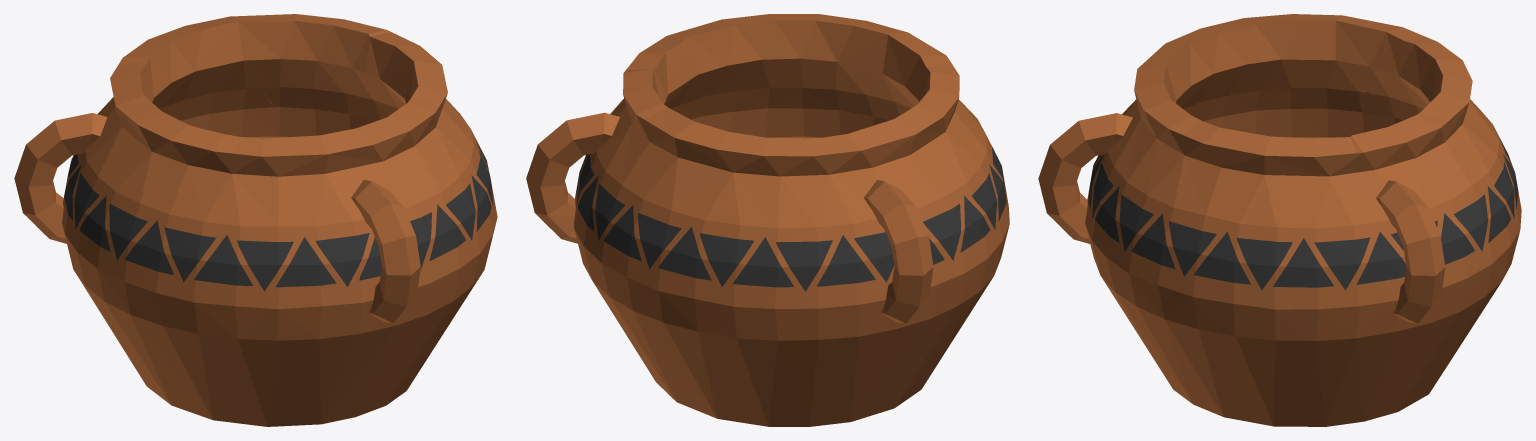
The model's file is Pottery 19_2b.fbx.
3 views of the same model, side by side, from view 1: azimuth 30°, elevation 25°; view 2: azimuth 150°, elevation 25°; view 3: azimuth 270°, elevation 25° (orthographic).
Parts seen in each view (by area): view 1: Pottery 19_2b.001, Pottery 19_2b.005, Pottery 19_2b, Pottery 19_2b.006, Pottery 19_2b.004, Pottery 19_2b.003, Pottery 19_2b.002; view 2: Pottery 19_2b.004, Pottery 19_2b.005, Pottery 19_2b, Pottery 19_2b.001, Pottery 19_2b.003, Pottery 19_2b.002, Pottery 19_2b.006; view 3: Pottery 19_2b.002, Pottery 19_2b.003, Pottery 19_2b.005, Pottery 19_2b.001, Pottery 19_2b, Pottery 19_2b.004, Pottery 19_2b.006.
Boxes of the visible parts, x1=… form: Pottery 19_2b.001: x1=232, y1=97, x2=480, y2=338; Pottery 19_2b.005: x1=14, y1=64, x2=200, y2=378; Pottery 19_2b: x1=104, y1=136, x2=484, y2=426; Pottery 19_2b.006: x1=156, y1=128, x2=319, y2=378; Pottery 19_2b.004: x1=118, y1=14, x2=284, y2=138; Pottery 19_2b.003: x1=279, y1=14, x2=398, y2=137; Pottery 19_2b.002: x1=365, y1=32, x2=497, y2=268; Pottery 19_2b.004: x1=601, y1=107, x2=830, y2=340; Pottery 19_2b.005: x1=816, y1=84, x2=1009, y2=378; Pottery 19_2b: x1=601, y1=136, x2=969, y2=426; Pottery 19_2b.001: x1=751, y1=14, x2=953, y2=138; Pottery 19_2b.003: x1=526, y1=69, x2=667, y2=320; Pottery 19_2b.002: x1=610, y1=16, x2=769, y2=137; Pottery 19_2b.006: x1=919, y1=66, x2=1009, y2=220; Pottery 19_2b.002: x1=1129, y1=121, x2=1360, y2=385; Pottery 19_2b.003: x1=1350, y1=112, x2=1492, y2=375; Pottery 19_2b.005: x1=1221, y1=14, x2=1427, y2=138; Pottery 19_2b.001: x1=1038, y1=34, x2=1213, y2=274; Pottery 19_2b: x1=1100, y1=257, x2=1501, y2=426; Pottery 19_2b.004: x1=1399, y1=36, x2=1521, y2=280; Pottery 19_2b.006: x1=1181, y1=22, x2=1246, y2=127.
Bounding box in the file's own units: 76.29 × 53.26 × 80.32.
